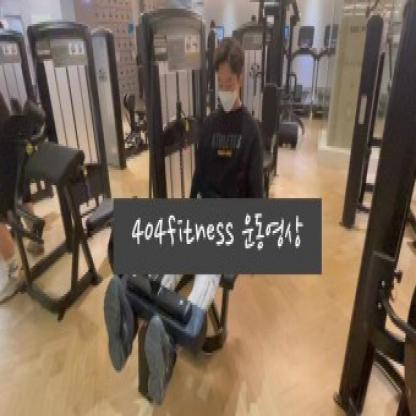leg extension: (86, 2, 290, 416)
